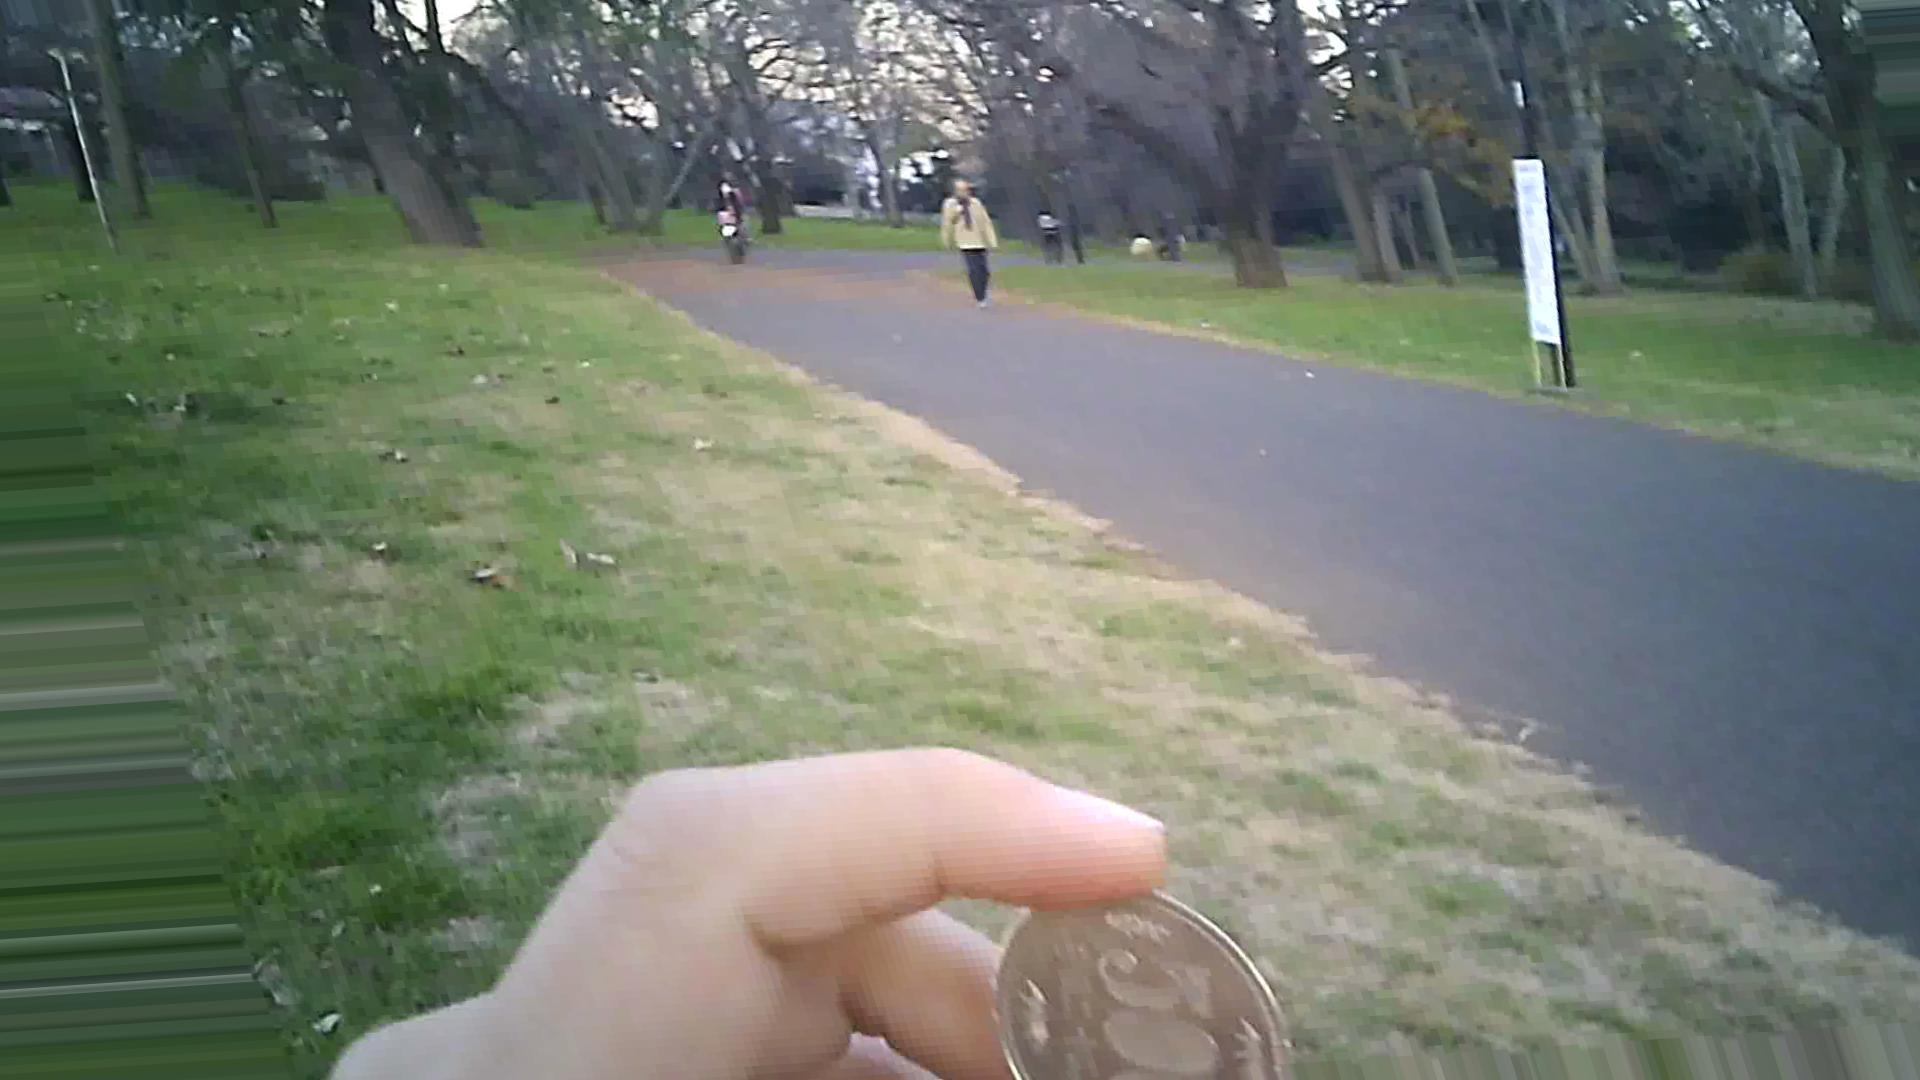500 Yen: (973, 876, 1294, 1079)
